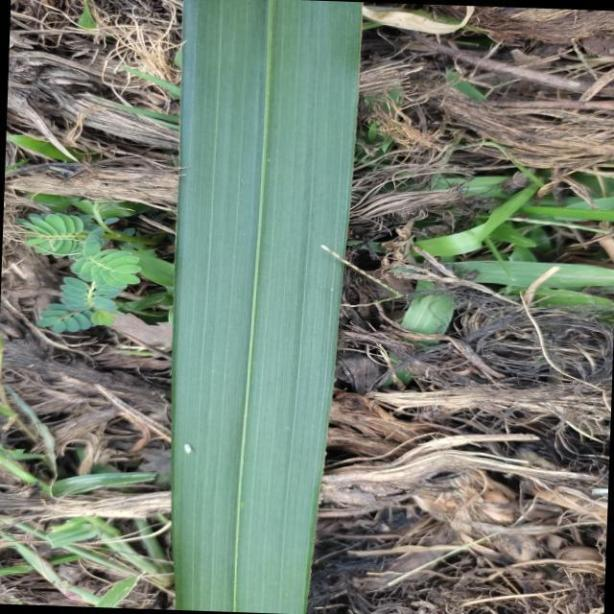Healthy: (168, 0, 362, 610)
